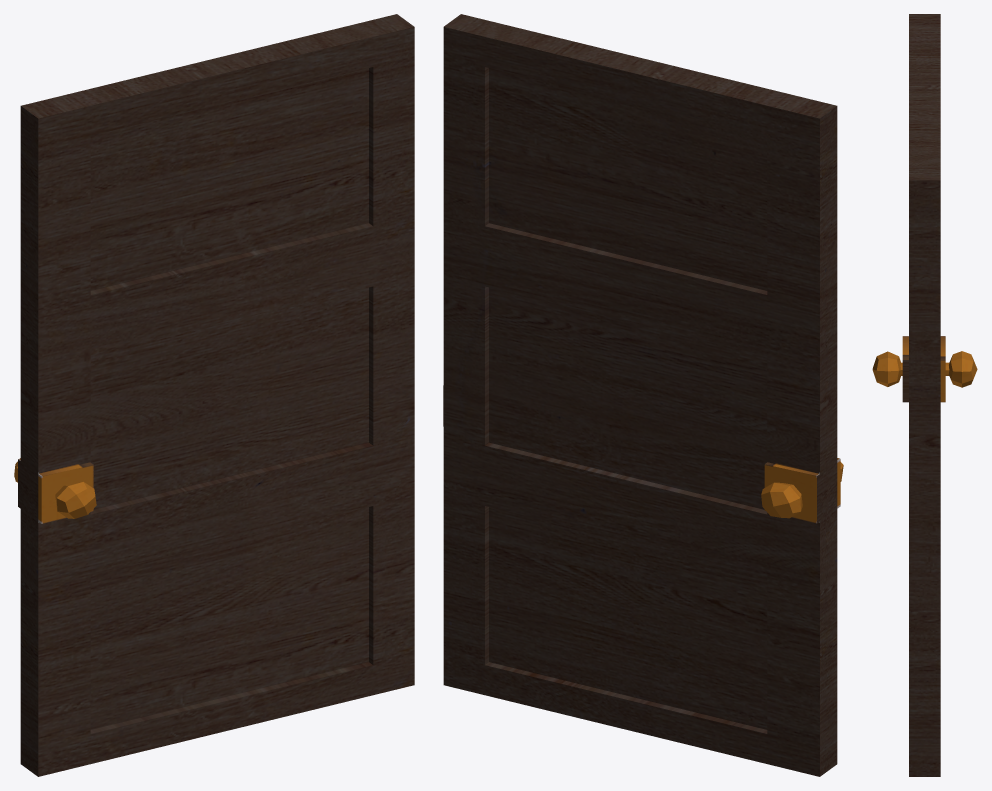
Rendered from PuertaCocina.obj.
3 renders of one model, left to right at view 1: azimuth 30°, elevation 25°; view 2: azimuth 150°, elevation 25°; view 3: azimuth 270°, elevation 25°, orthographic. The views are drawn at different scales.
Parts seen in each view (by area): view 1: Puerta:PUERTA_Plano_002; view 2: Puerta:PUERTA_Plano_002; view 3: Puerta:PUERTA_Plano_002.
Boxes of the visible parts, x1,y1,x2,y2 form: Puerta:PUERTA_Plano_002: (14,14,414,776); Puerta:PUERTA_Plano_002: (443,14,843,776); Puerta:PUERTA_Plano_002: (872,14,977,776).
Bounding box in the file's own units: 4.56 × 7.61 × 1.22.
1 material, 1 textured.
